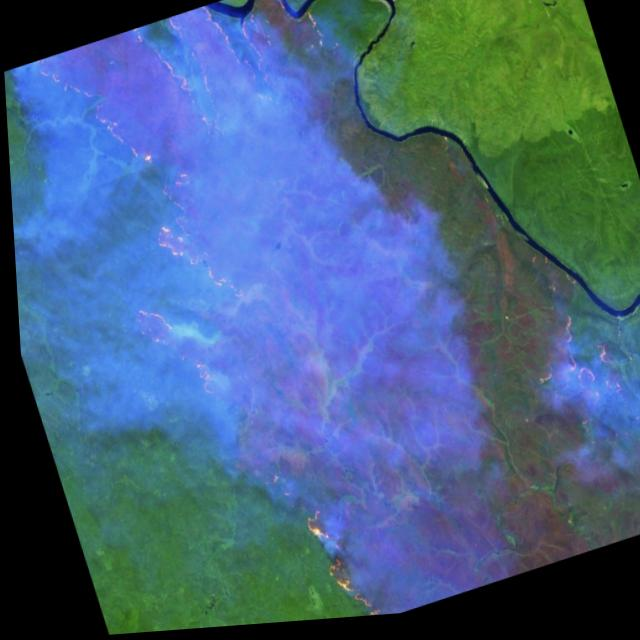fire: (20, 0, 489, 639)
